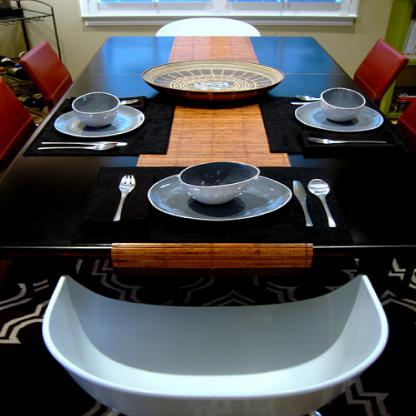chair: (42, 276, 388, 415), (16, 36, 74, 112), (352, 37, 409, 108), (0, 75, 37, 171), (156, 16, 261, 36)
diningtable: (0, 35, 415, 267)
